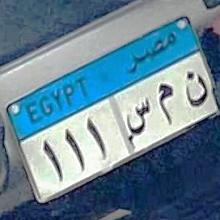1: (87, 111, 112, 162), (63, 126, 85, 172), (42, 138, 62, 184)
meem: (156, 78, 177, 130)
noon: (182, 69, 210, 113)
seen: (126, 94, 153, 140)
